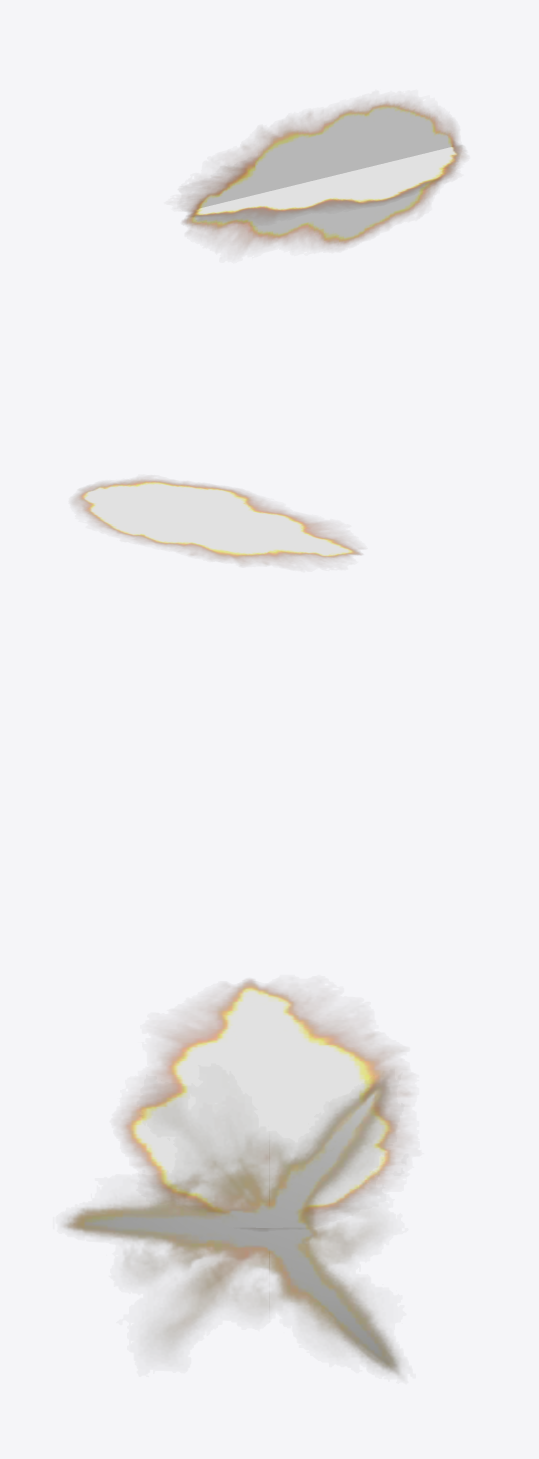
Rendered from MuzzleFlash.glb.
3 renders of one model, top to bottom at view 1: azimuth 30°, elevation 25°; view 2: azimuth 150°, elevation 25°; view 3: azimuth 270°, elevation 25°, orthographic. The views are drawn at different scales.
Parts seen in each view (by area): view 1: MuzzleFlash; view 2: MuzzleFlash; view 3: MuzzleFlash.
Boxes of the visible parts, left/top/right/bottom form: MuzzleFlash: left=183, top=101, right=463, bottom=247; MuzzleFlash: left=73, top=479, right=361, bottom=563; MuzzleFlash: left=64, top=980, right=408, bottom=1374.
Size of the model in its own units: 0.4279 by 0.2492 by 0.2492.
1 material, 1 textured.
